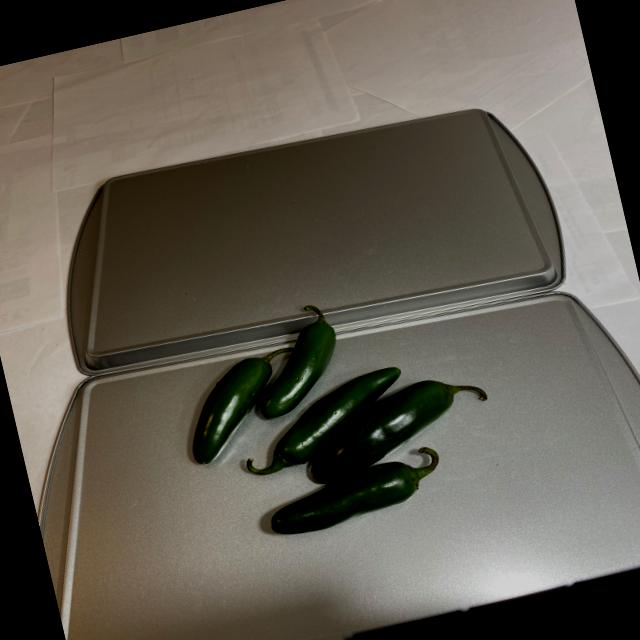chilli: (168, 273, 500, 570)
